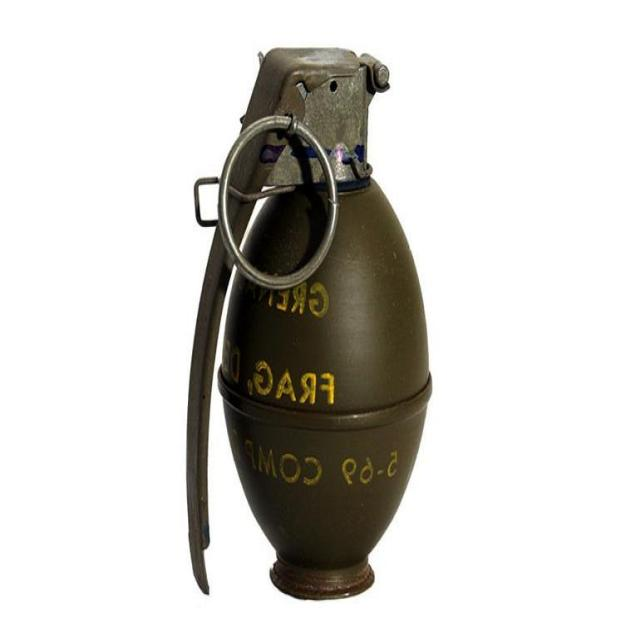grenade: (185, 47, 435, 602)
